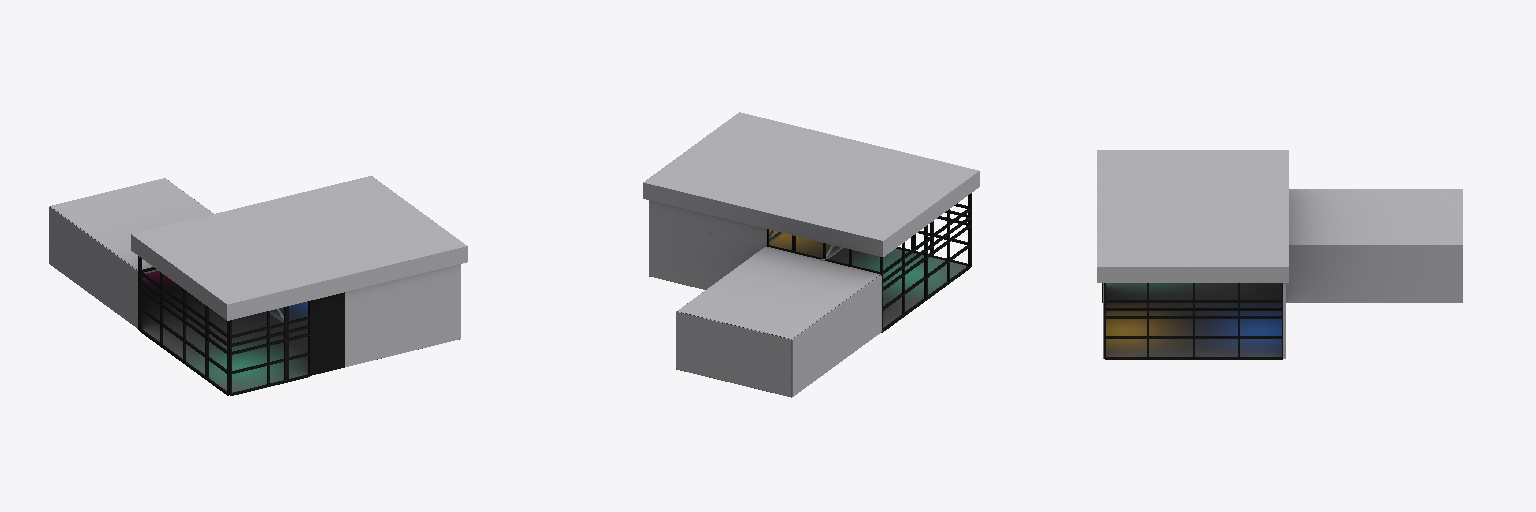
3 views of the same model, side by side, from view 1: azimuth 30°, elevation 25°; view 2: azimuth 150°, elevation 25°; view 3: azimuth 270°, elevation 25° (orthographic).
Parts seen in each view (by area): view 1: Box023, Box001, Plane001, Box021; view 2: Box023, Box001, Plane001, Box021; view 3: Box023, Plane001, Box001, Box021.
Part boxes in pixels (x1,y1,x2,y2): Box023: (50,176,467,320); Box001: (49,178,460,366); Plane001: (142,271,307,392); Box021: (138,256,344,395); Box023: (643,112,979,338); Box001: (649,200,881,396); Plane001: (676,230,966,397); Box021: (767,193,971,332); Box023: (1097,150,1461,282); Plane001: (1106,283,1281,356); Box001: (1103,189,1462,358); Box021: (1102,283,1282,359).
Size of the model in its own units: 61.23 by 23.19 by 80.8.
Materials: 5 (5 with a texture image).